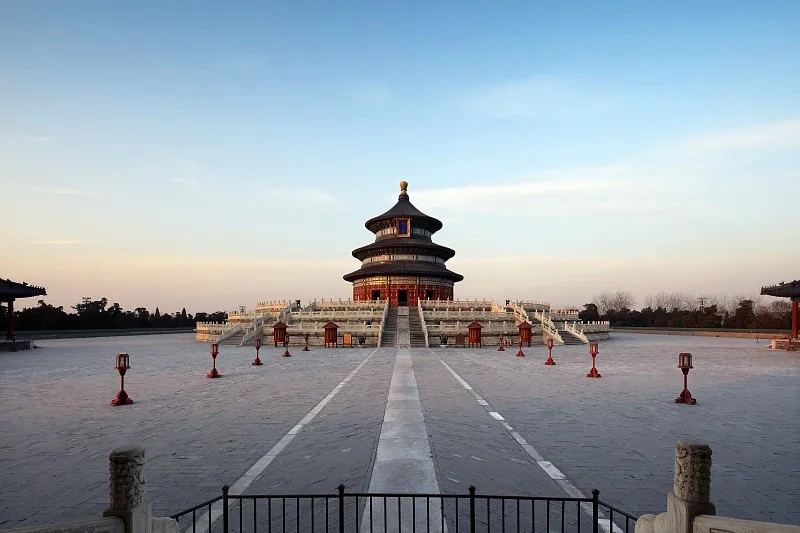Heaven: (342, 182, 465, 306)
